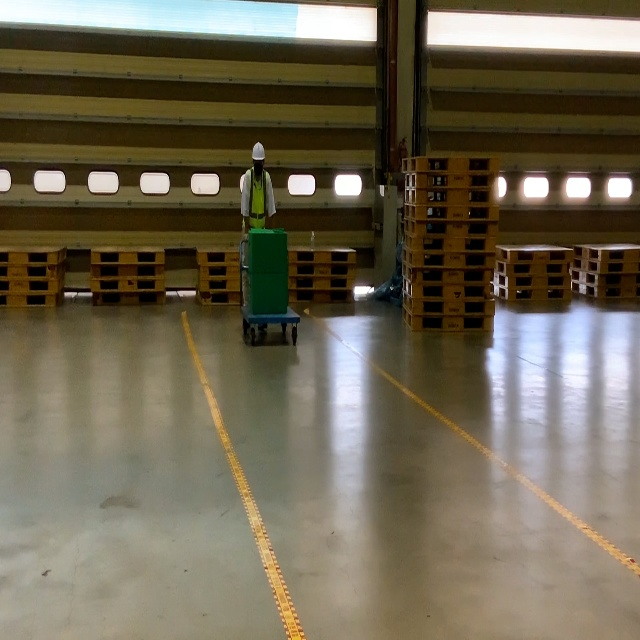Box: (248, 228, 287, 274), (248, 271, 288, 315)
Worker: (241, 141, 276, 330)
